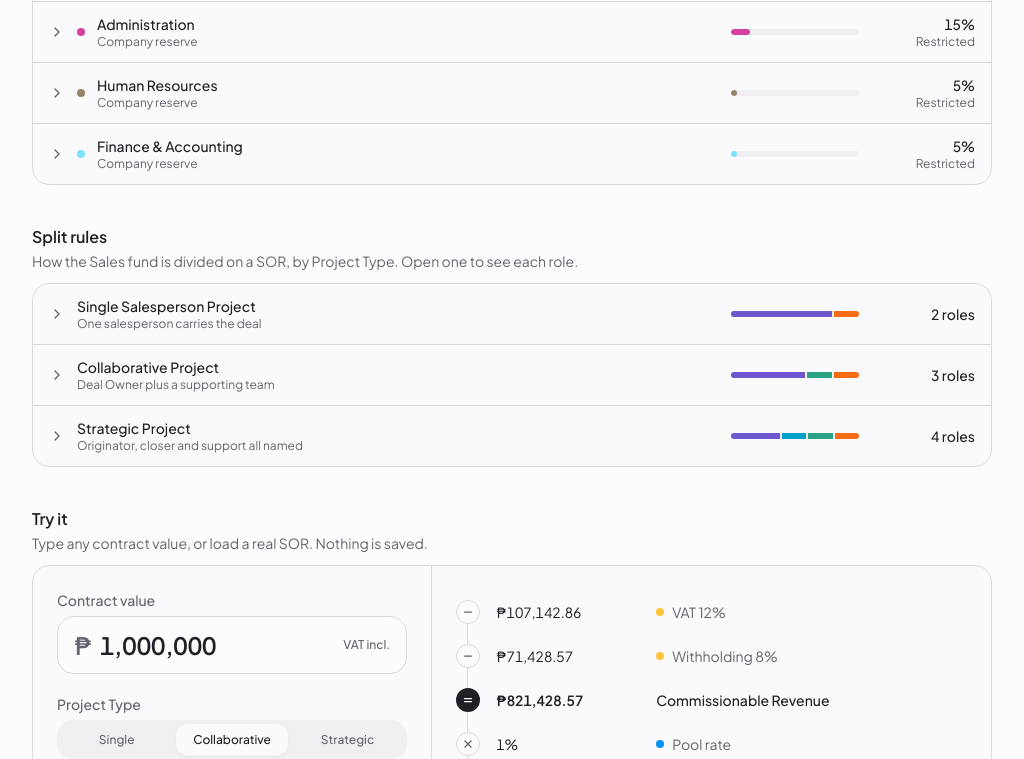
it: CommissionDashboardView › Formula tab › shows the rates, the departments and each Project Type's split
The image size is (1024, 759).
(page scrolled)
Click the button that starts with "Collaborative Project": {"x": 148, "y": 367} [33,345,991,405]
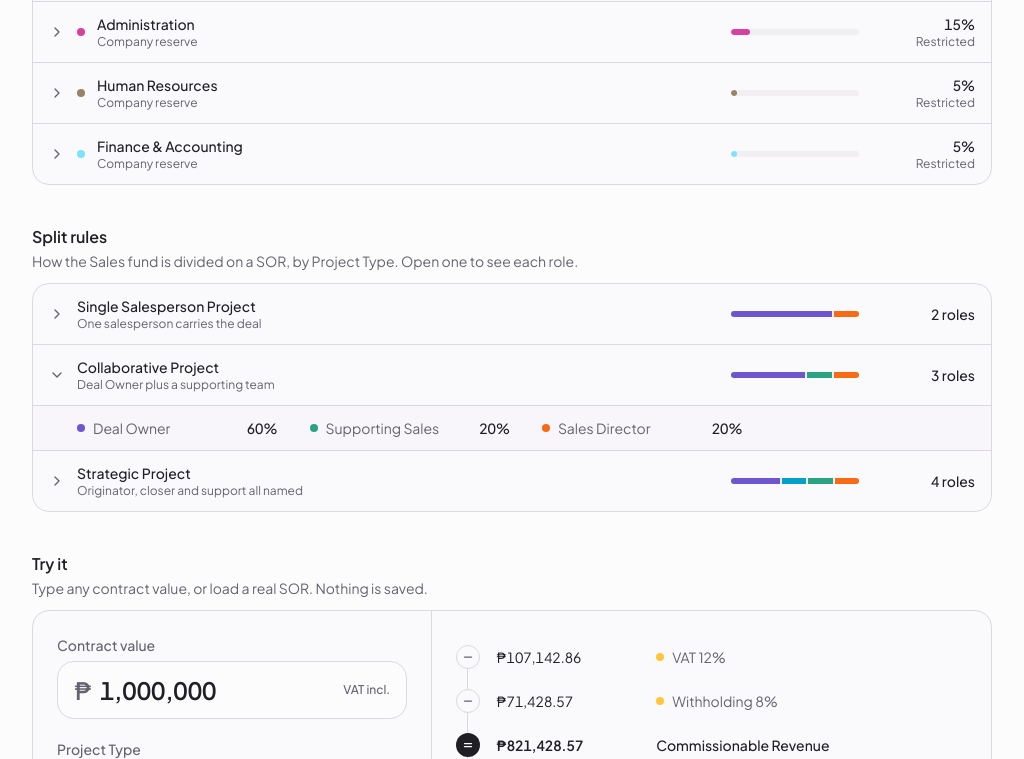
Expected: the text "60%" is shown, [247,418,278,438]
